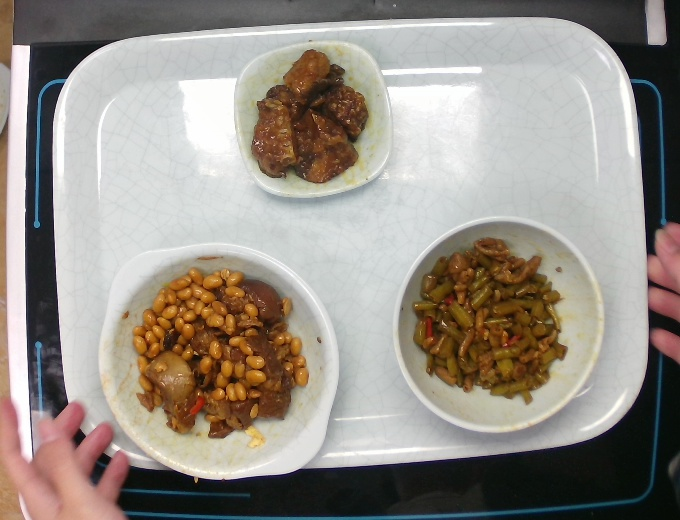JYsf-Fan_Wan: (386, 205, 610, 443)
JYsf-Shuang_Er_Wan: (94, 232, 352, 482)
JYsf-Si_Fang_Die: (218, 32, 413, 216)
